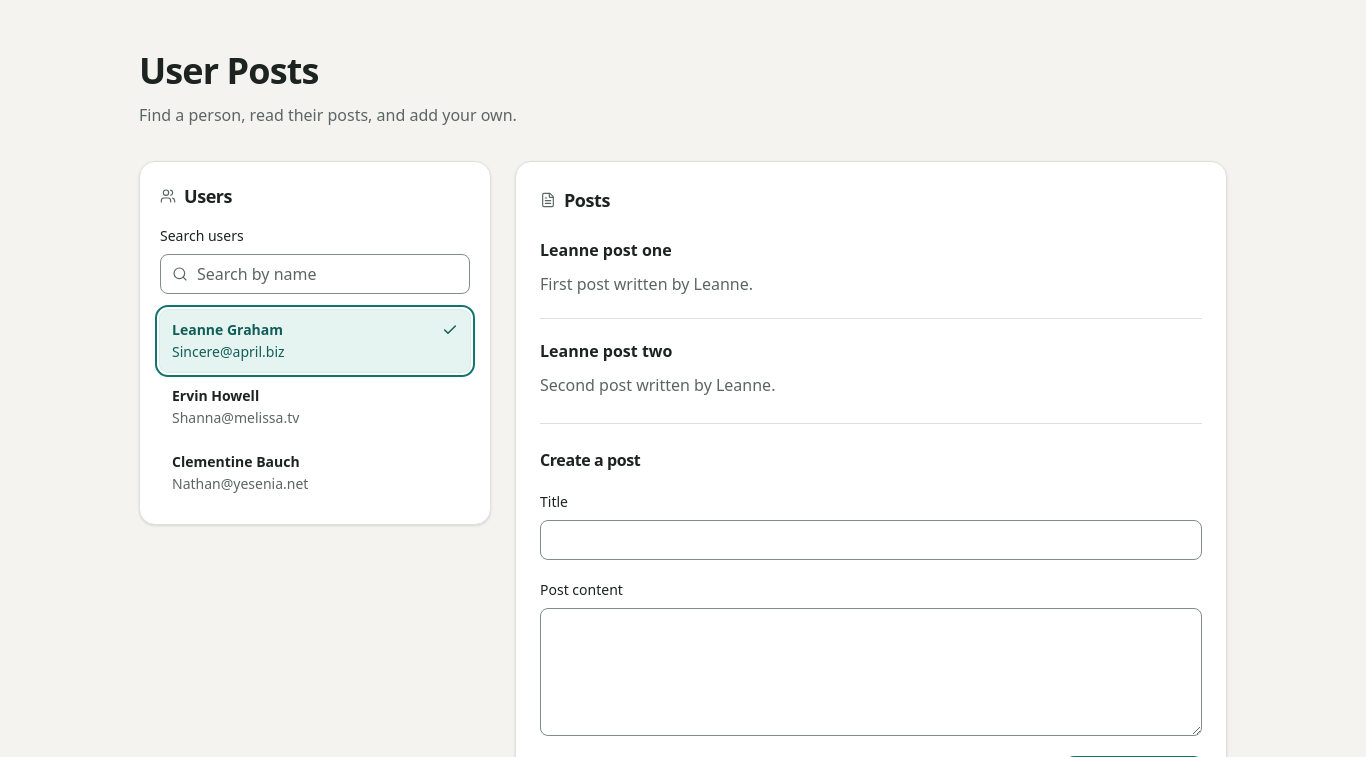
Test: App › creates a post for the currently selected user after switching users
Earlier steps of the test are not shown.
Expected: the heading "Leanne post one" is shown, x1=540 y1=239 x2=672 y2=261
Click the button "Ervin Howell Shanna@melissa.tv" at (216, 396), box x1=160 y1=376 x2=470 y2=438
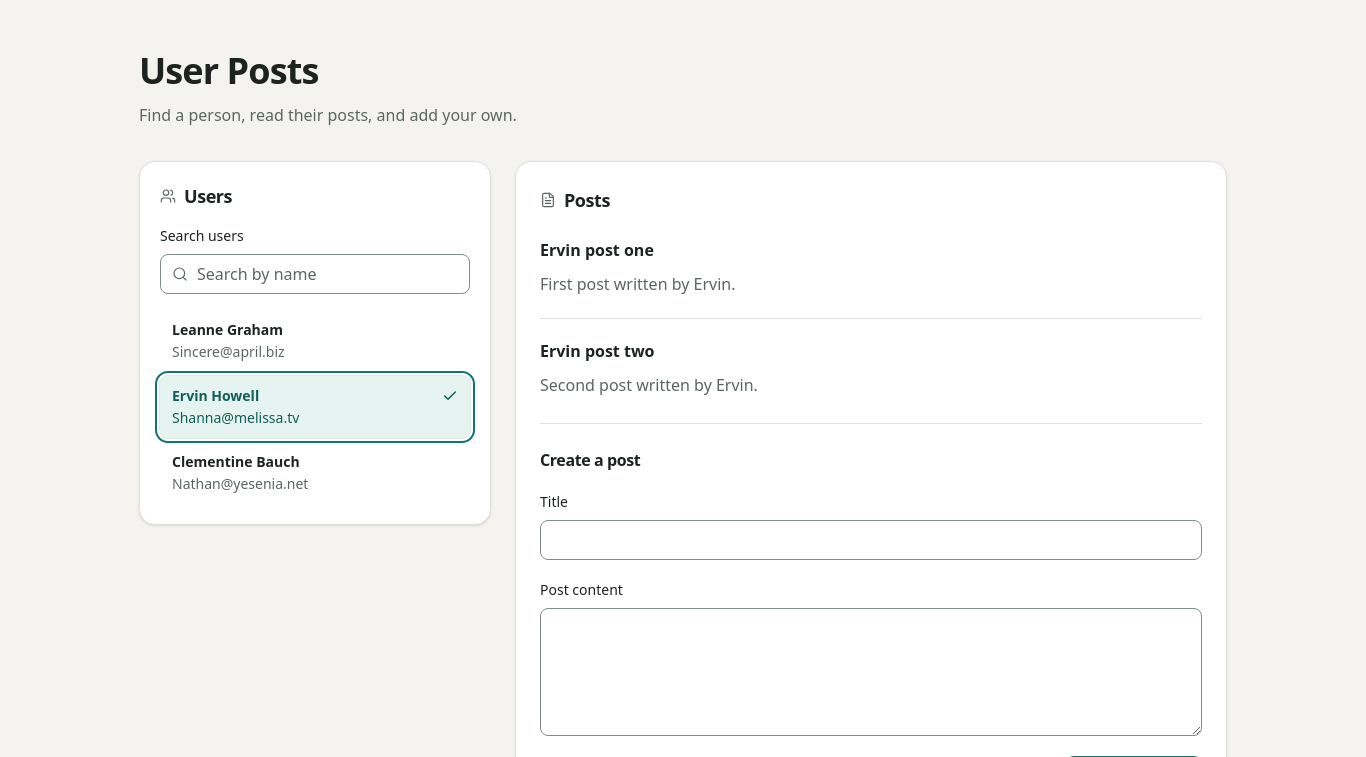
Expected: the heading "Ervin post one" is shown, x1=540 y1=239 x2=654 y2=261
Type "Ervin-only post" into the field labelled "Title" at (871, 540), box x1=540 y1=520 x2=1202 y2=560
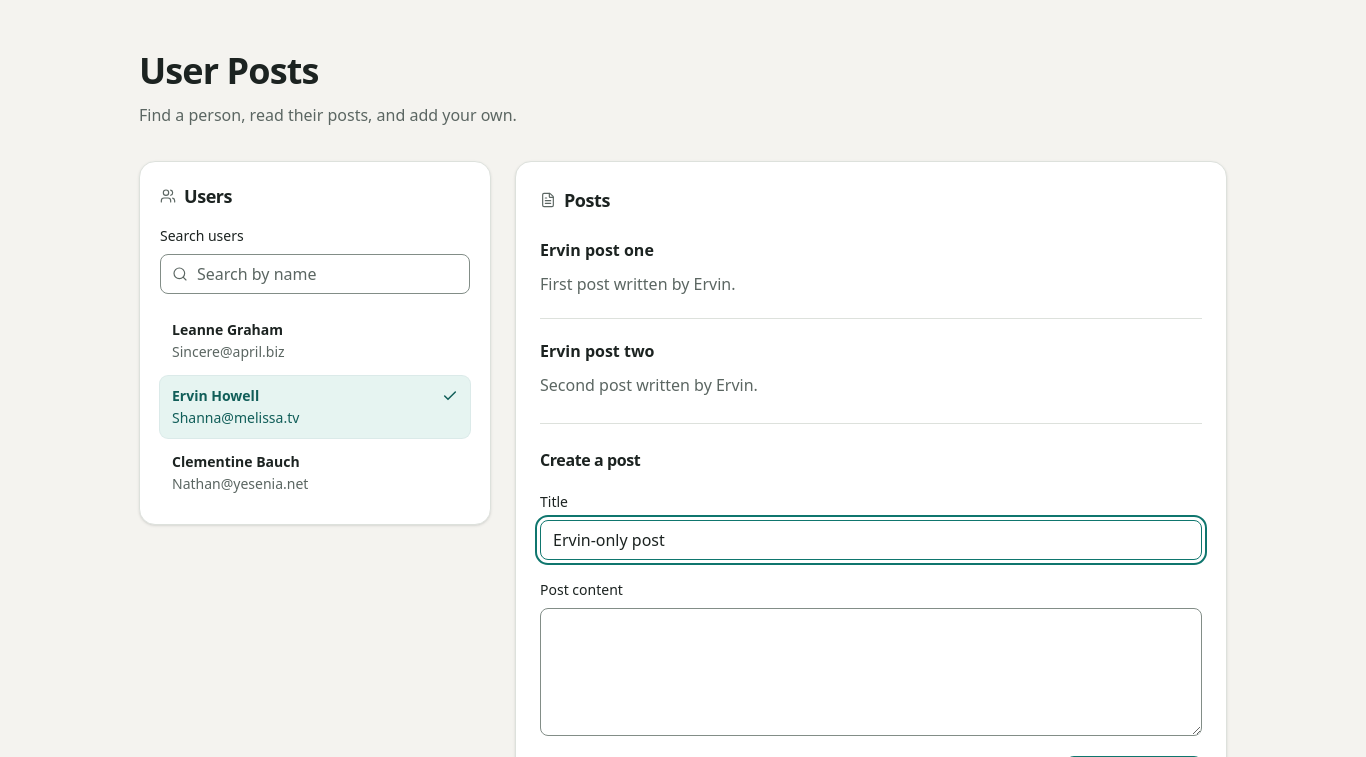
Type "Created after switching users." into the text box labelled "Post content" at (871, 672), box x1=540 y1=608 x2=1202 y2=736
(page scrolled)
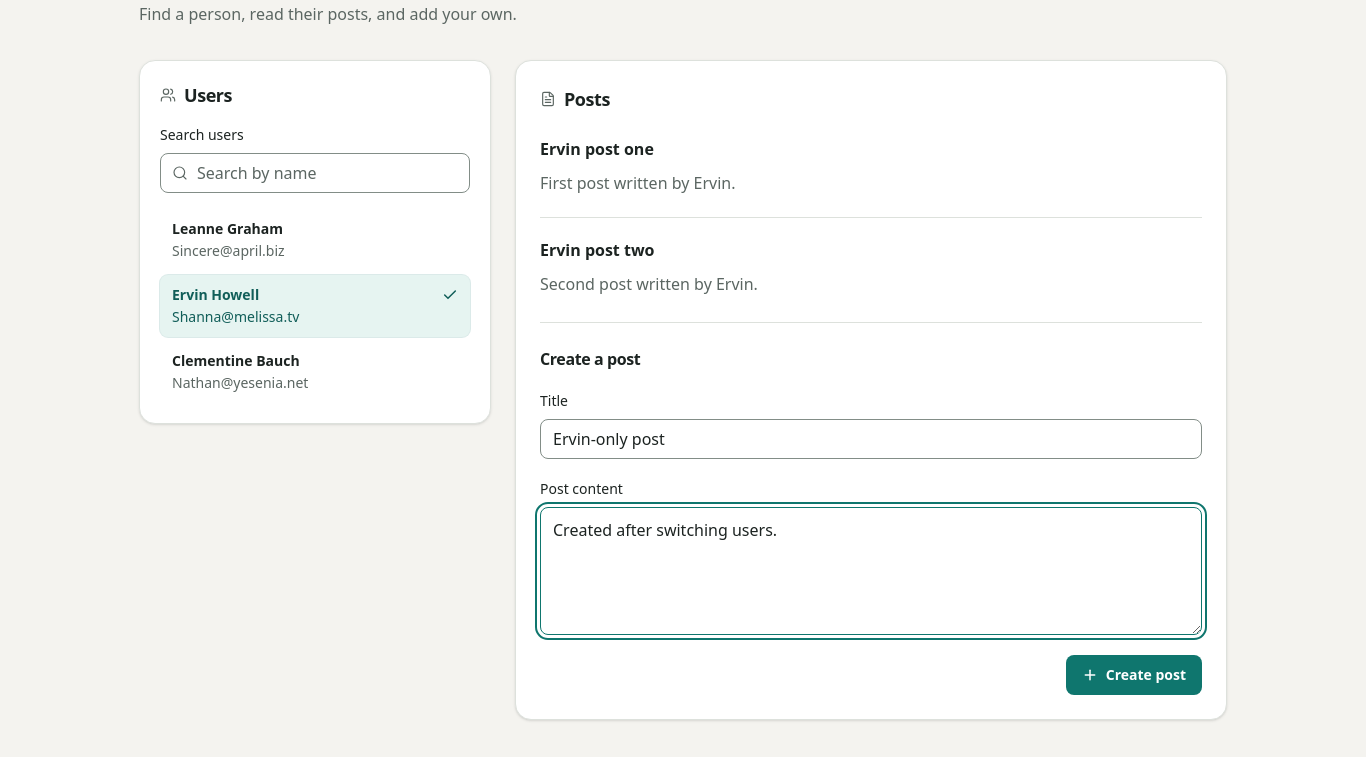
Click the button "Create post" at (1134, 675), box x1=1066 y1=655 x2=1202 y2=695
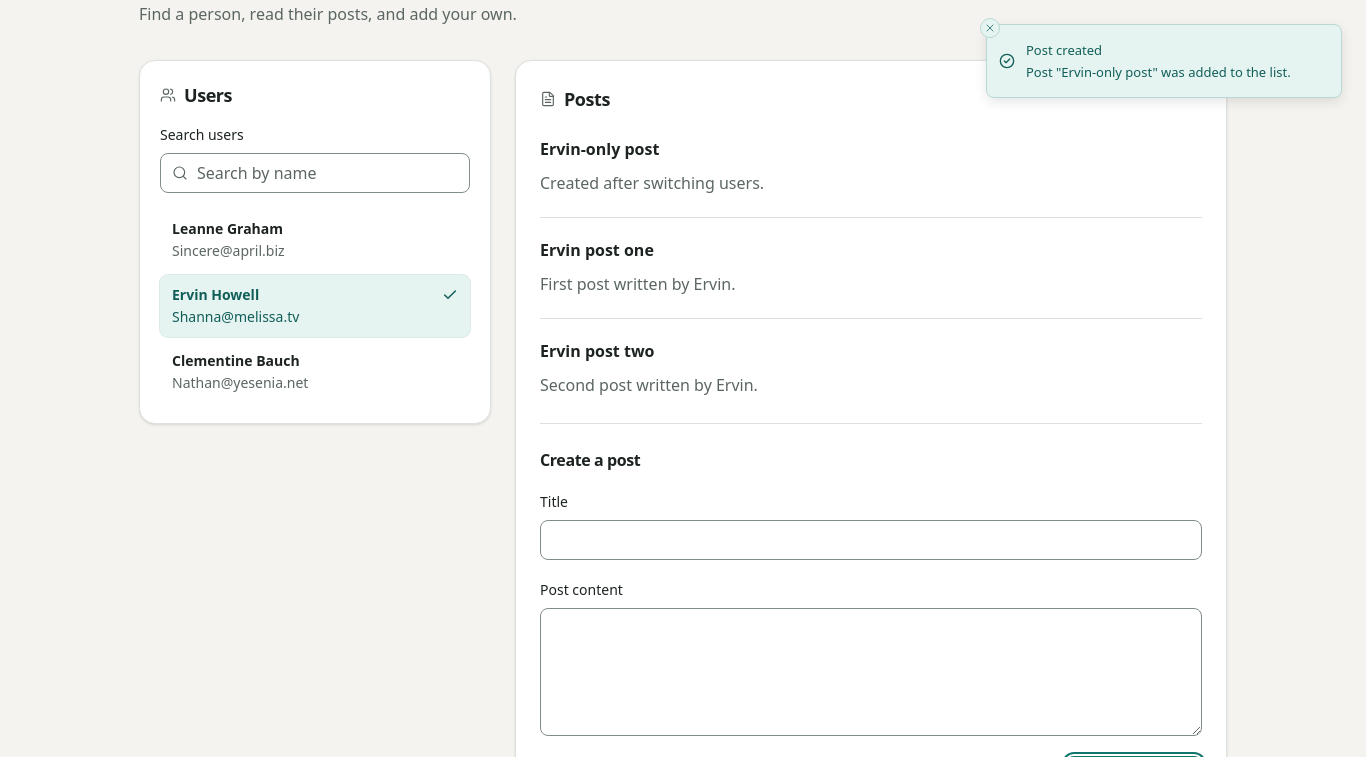
Expected: the heading "Ervin-only post" is shown, x1=540 y1=138 x2=659 y2=160
Click the button "Leanne Graham Sincere@april.biz" at (228, 228), box x1=160 y1=209 x2=470 y2=271
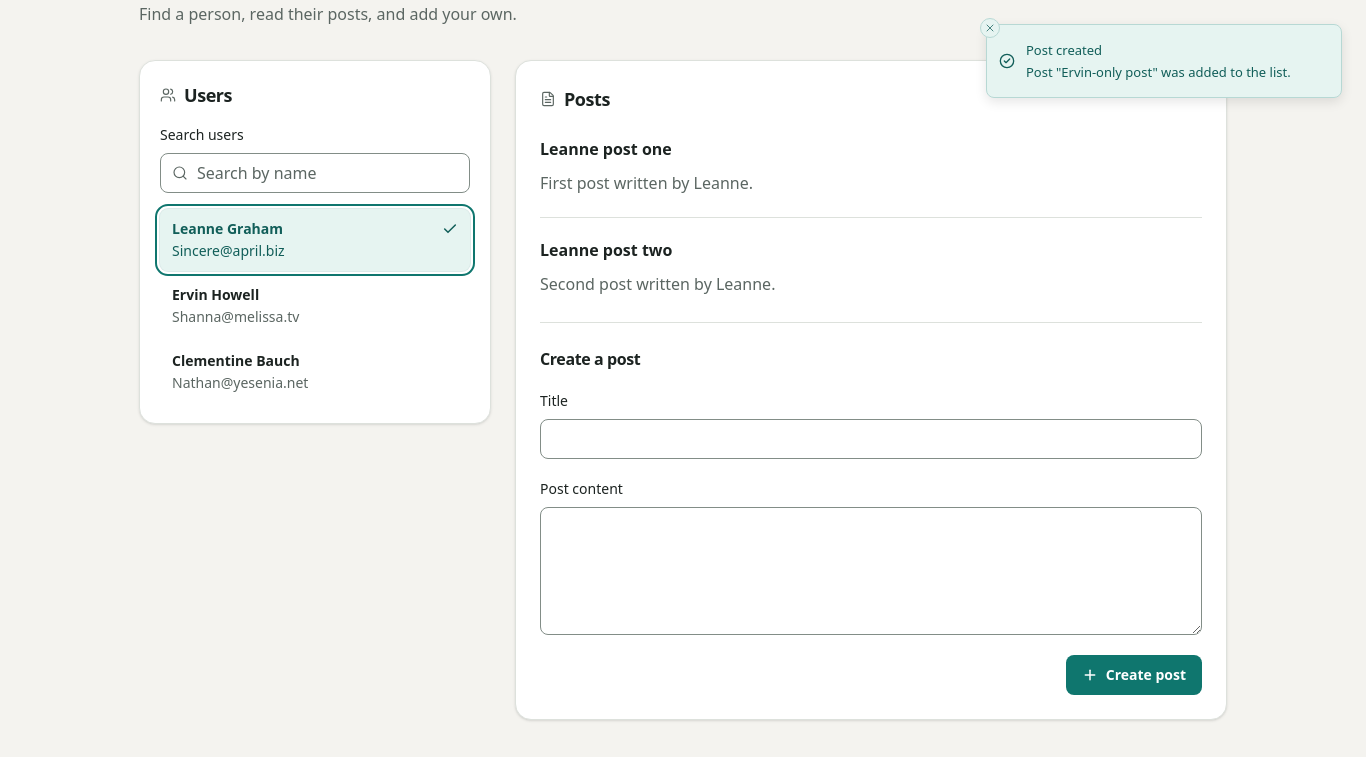
Expected: the heading "Leanne post one" is shown, x1=540 y1=138 x2=672 y2=160
Click the button "Ervin Howell Shanna@melissa.tv" at (216, 294), box x1=160 y1=275 x2=470 y2=337
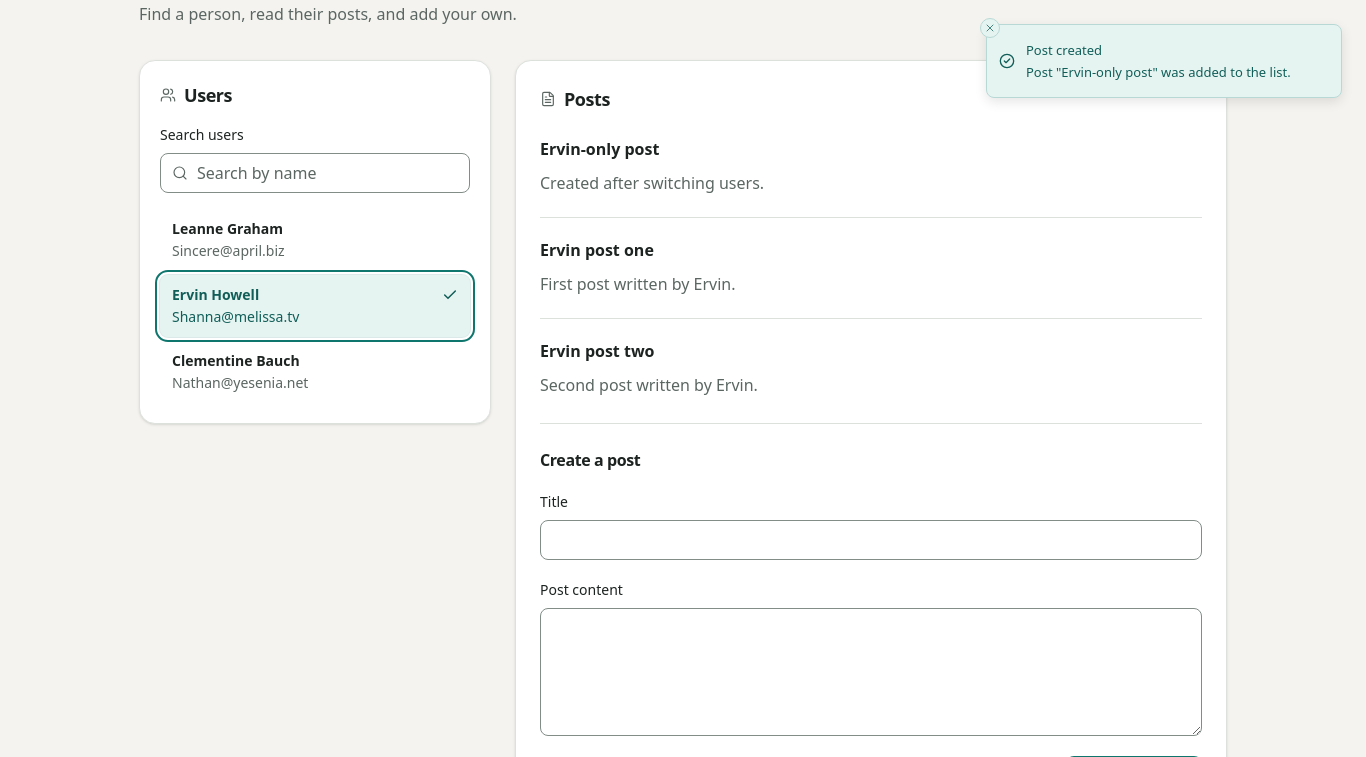
Expected: the heading "Ervin-only post" is shown, x1=540 y1=138 x2=659 y2=160
